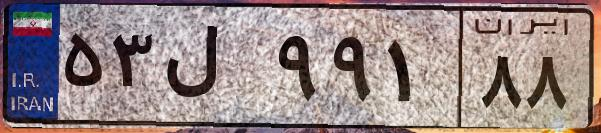1: (385, 28, 445, 110)
3: (110, 28, 158, 98)
5: (57, 26, 110, 100)
8: (475, 38, 525, 113), (525, 38, 570, 115)
9: (270, 28, 330, 110), (330, 28, 385, 110)
ل: (158, 20, 270, 120)
